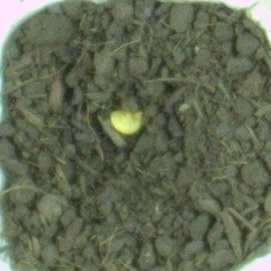pepper seed: (37, 41, 182, 176)
